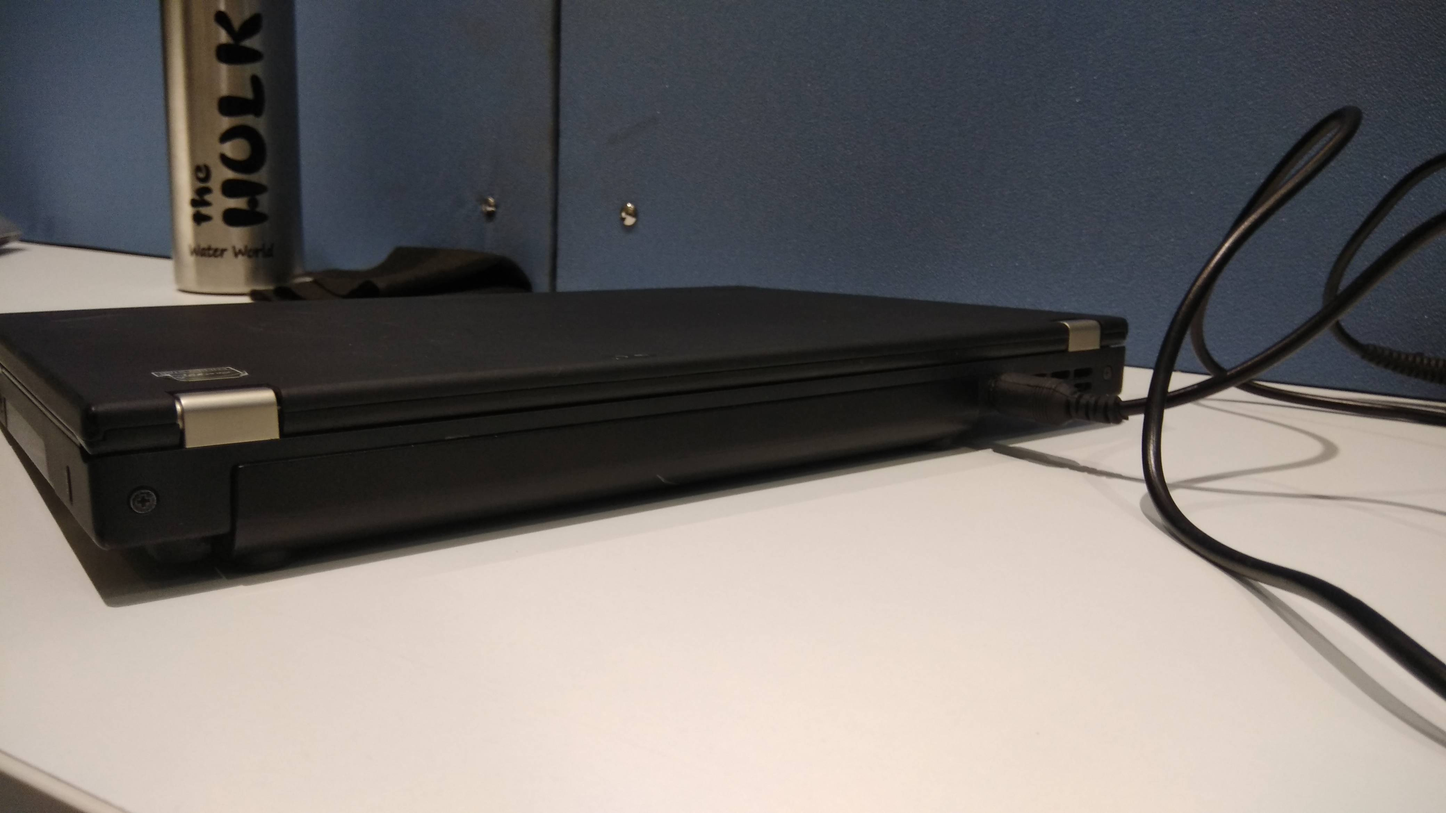Electronics: (5, 274, 1144, 608)
